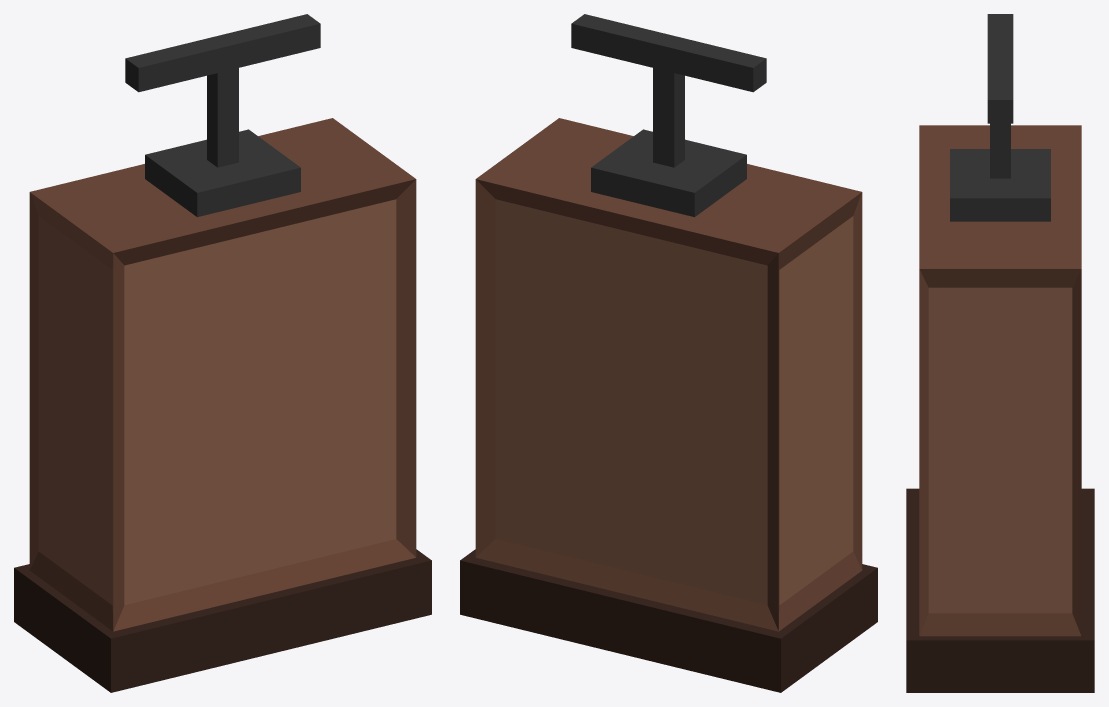
Rendered from TNT Detonator.glb.
The picture shows the model from 3 angles, left to right: view 1: azimuth 30°, elevation 25°; view 2: azimuth 150°, elevation 25°; view 3: azimuth 270°, elevation 25°; orthographic projection. The views are drawn at different scales.
Parts seen in each view (by area): view 1: TNT Detonator; view 2: TNT Detonator; view 3: TNT Detonator.
Boxes of the visible parts, x1,y1,x2,y2 form: TNT Detonator: [14, 14, 431, 692]; TNT Detonator: [460, 14, 877, 692]; TNT Detonator: [906, 14, 1094, 692].
Size of what is drawn, in the model's own units: 0.4204 by 0.7228 by 0.22.
1 material, 1 textured.
